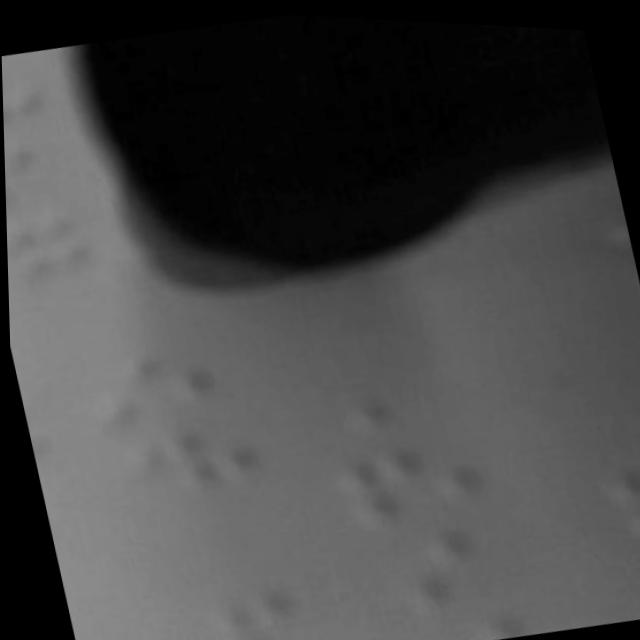braiile: (323, 424, 495, 537), (379, 503, 546, 615), (111, 405, 259, 508), (187, 563, 357, 640)
